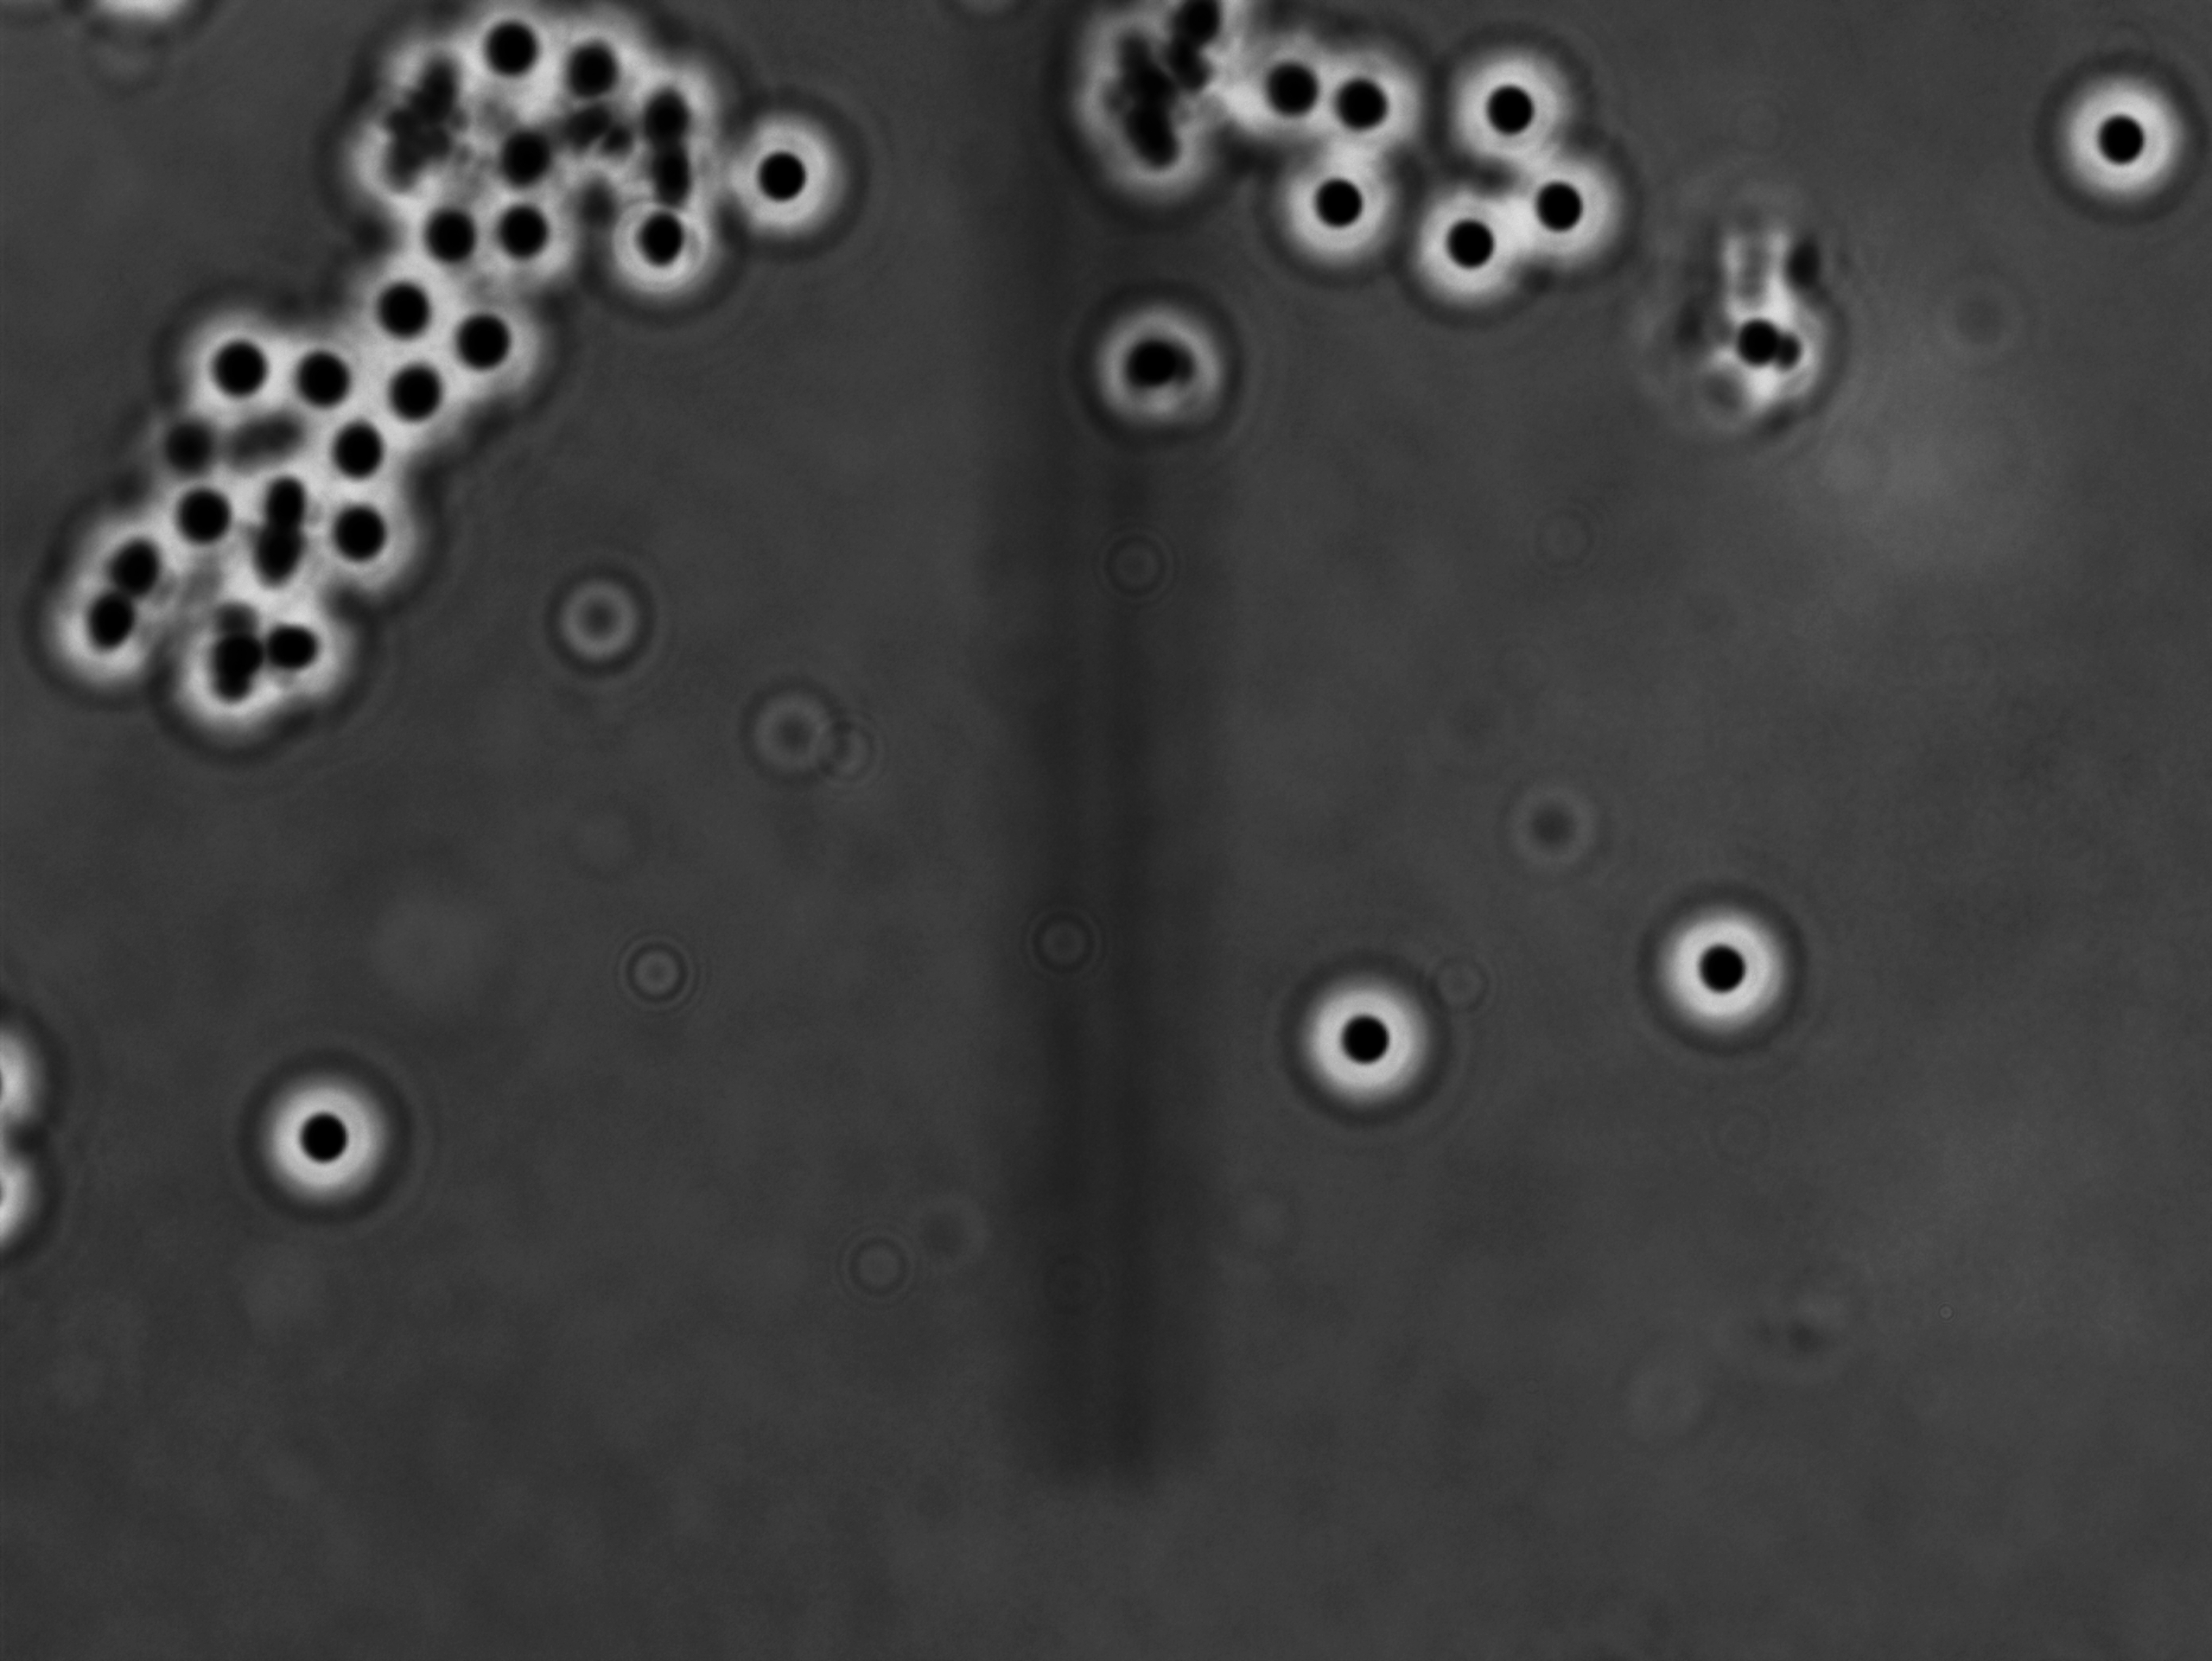depth:-40: (1626, 883, 1833, 1057), (234, 1063, 429, 1218), (2034, 56, 2212, 223), (1282, 963, 1444, 1127)
